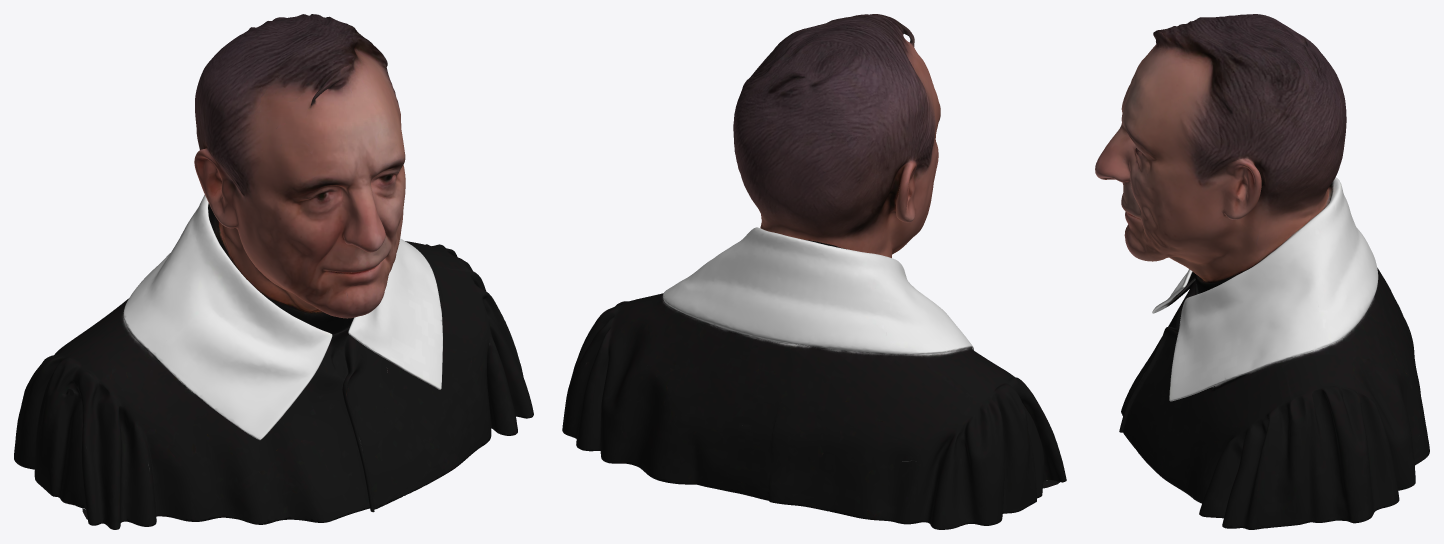
File: bidermann.glb
The picture shows the model from 3 angles, left to right: view 1: azimuth 30°, elevation 25°; view 2: azimuth 150°, elevation 25°; view 3: azimuth 270°, elevation 25°; orthographic projection. The views are drawn at different scales.
Parts seen in each view (by area): view 1: geometry_0; view 2: geometry_0; view 3: geometry_0.
Boxes of the visible parts, x1=… form: geometry_0: x1=14, y1=14, x2=533, y2=529; geometry_0: x1=562, y1=14, x2=1066, y2=529; geometry_0: x1=1095, y1=14, x2=1429, y2=529.
Bounding box in the file's own units: 1 × 0.9071 × 0.6806.
1 material, 1 textured.
